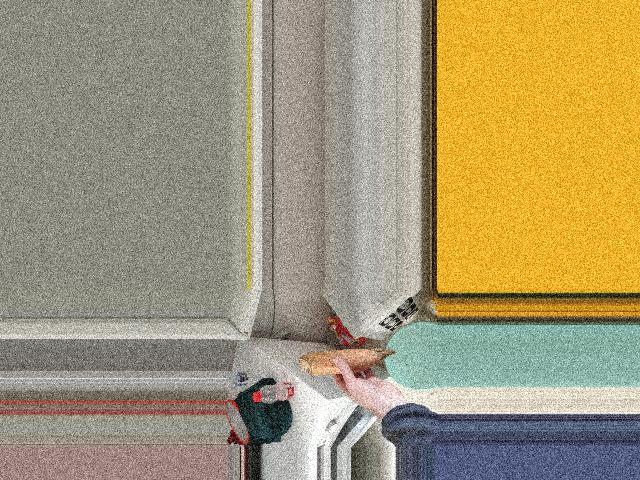sweet_potato: (300, 349, 391, 376)
